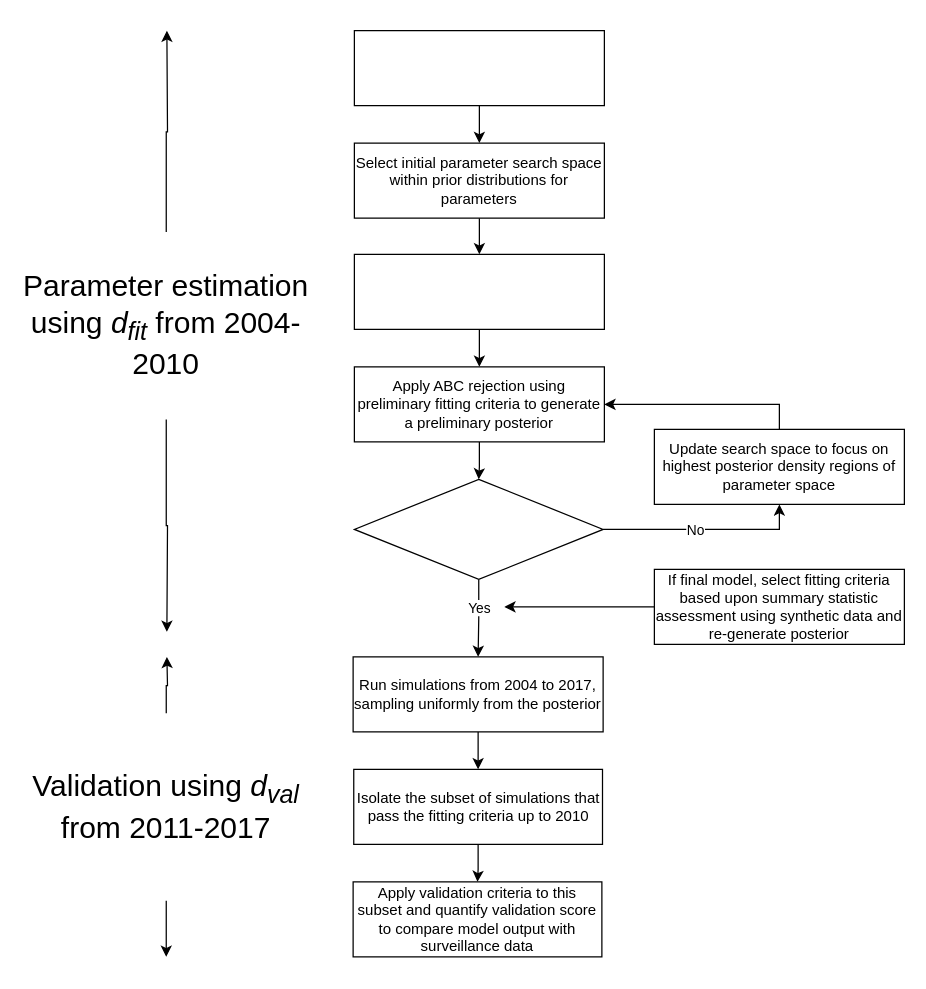
Image size: 926x989. Some labels were removed from this diagram. The shapes that lost their labels are listed below. From the top down, each one's centre as x and y in pixels, then its label:
At (478,67): "Define prior distributions for parameters and preliminary fitting criteria".
At (478,291): "Sample uniformly within the parameter search space and run fitting simulations".
At (478,528): "Are the region(s) of highest posterior density well sampled?".
